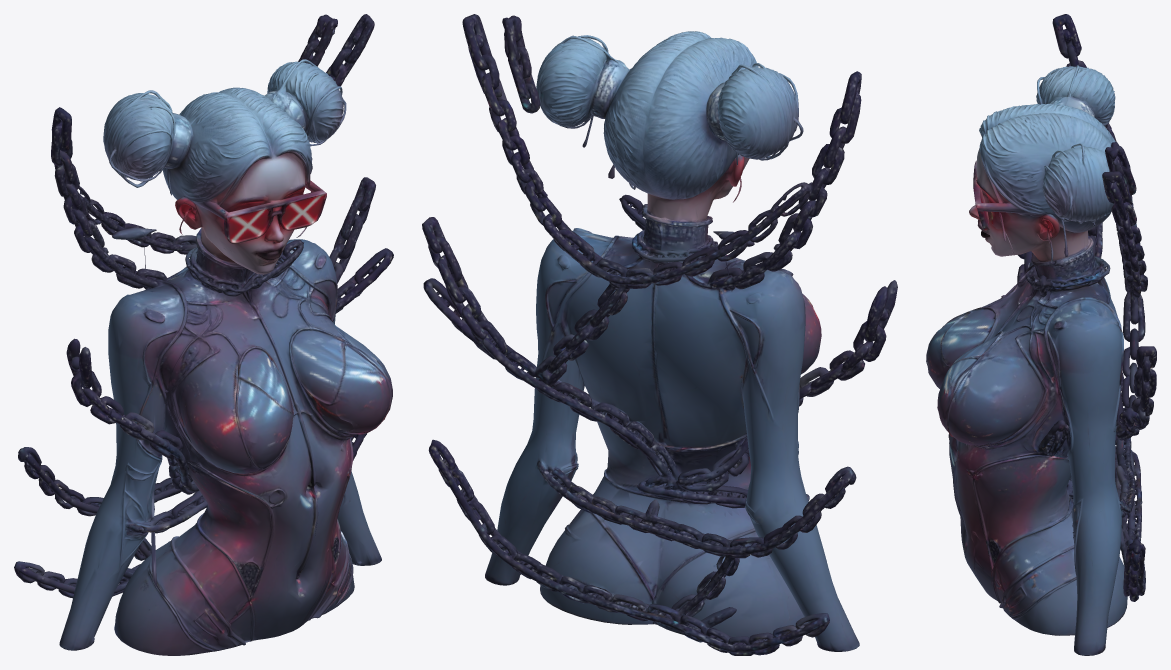
3 views of the same model, side by side, from view 1: azimuth 30°, elevation 25°; view 2: azimuth 150°, elevation 25°; view 3: azimuth 270°, elevation 25° (orthographic). The views are drawn at different scales.
Visible parts, largest first — view 1: node_0; view 2: node_0; view 3: node_0.
Boxes of the visible parts, <box> form: node_0: <box>14,14,393,655</box>; node_0: <box>422,14,897,655</box>; node_0: <box>926,14,1156,655</box>.
Size of the model in its own units: 0.7466 by 0.9895 by 0.4178.
Materials: 1 (1 with a texture image).
